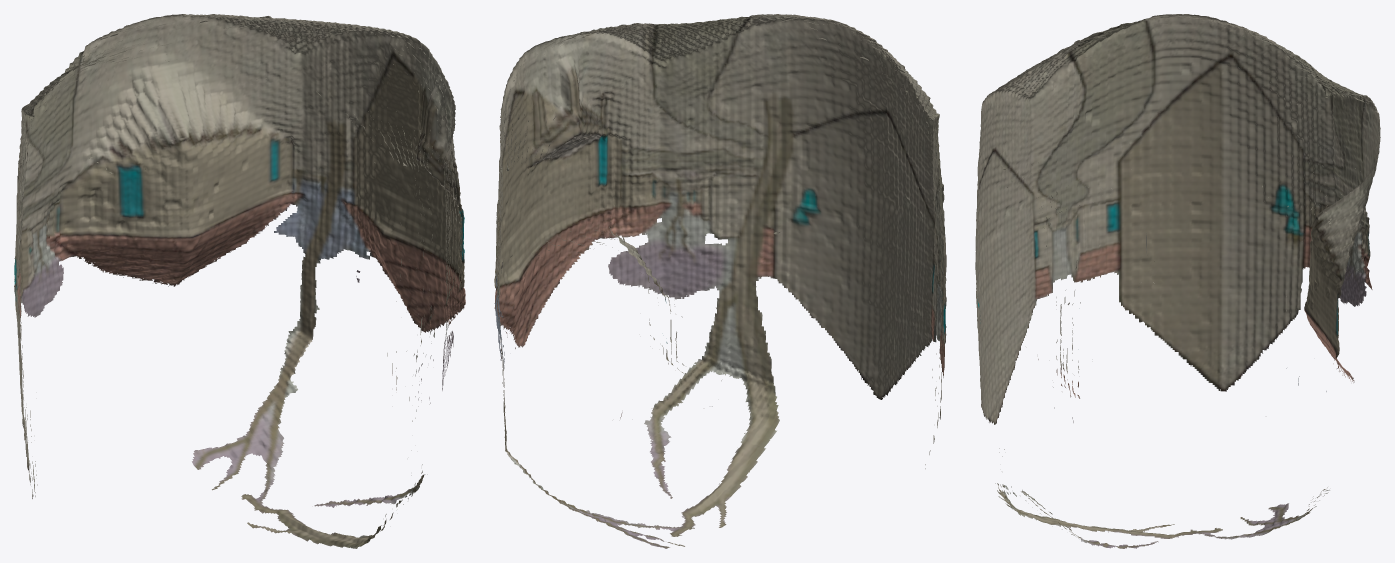
The model's file is perdizes-world-collider.glb.
3 renders of one model, left to right at view 1: azimuth 30°, elevation 25°; view 2: azimuth 150°, elevation 25°; view 3: azimuth 270°, elevation 25°, orthographic. The views are drawn at different scales.
Parts seen in each view (by area): view 1: world; view 2: world; view 3: world.
Boxes of the visible parts, x1,y1,x2,y2 form: world: (14,14,465,548); world: (494,14,946,548); world: (975,14,1380,548).
Bounding box in the file's own units: 2.13 × 2.45 × 2.01.
